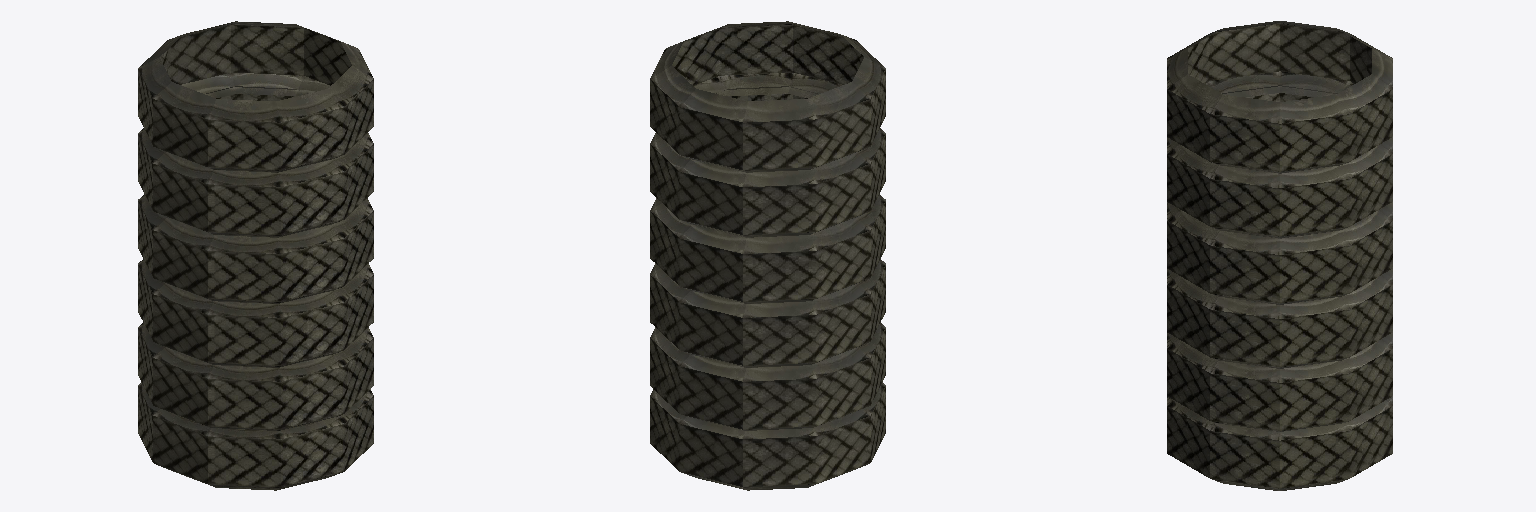
3 views of the same model, side by side, from view 1: azimuth 30°, elevation 25°; view 2: azimuth 150°, elevation 25°; view 3: azimuth 270°, elevation 25° (orthographic).
Parts seen in each view (by area): view 1: pPipe2; view 2: pPipe2; view 3: pPipe2.
Part boxes in pixels (x1,y1,x2,y2): pPipe2: (138, 21, 373, 490); pPipe2: (650, 21, 885, 490); pPipe2: (1167, 21, 1392, 490).
Bounding box in the file's own units: 2.04 × 3.7 × 1.94.
Materials: 1 (1 with a texture image).